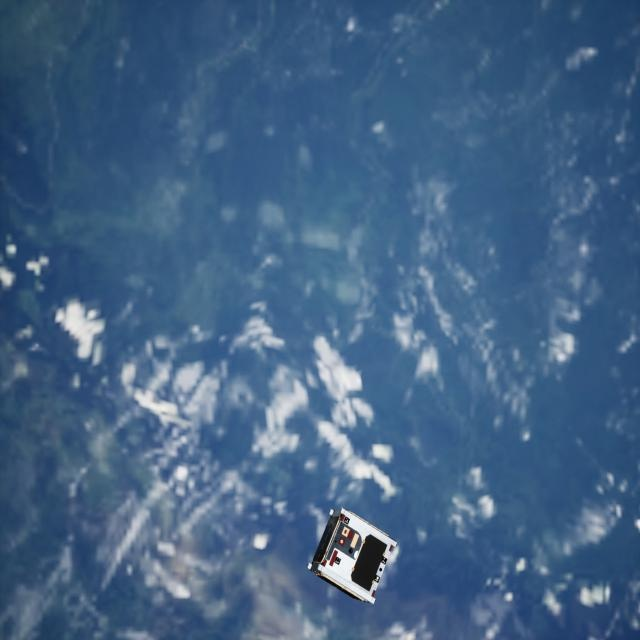satellite: (300, 509, 401, 606)
